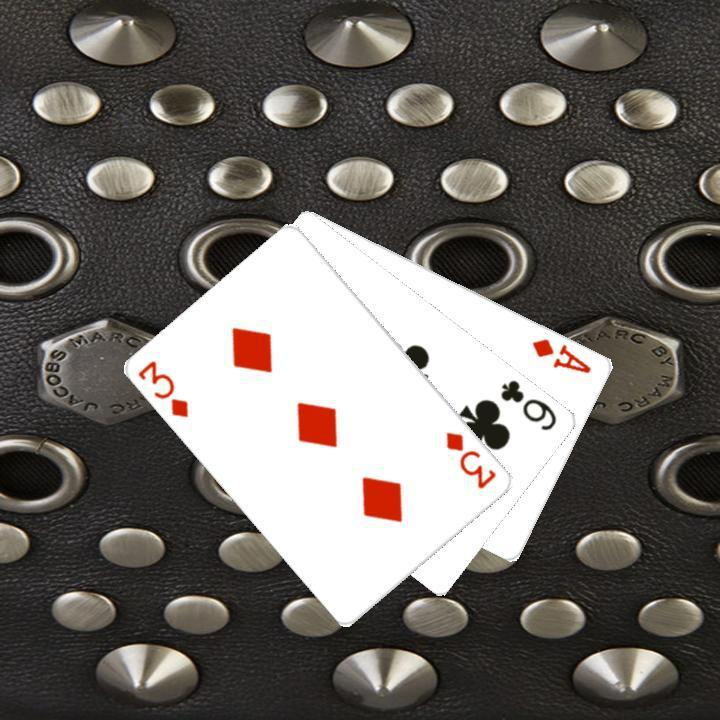3: (441, 427, 499, 492), (134, 356, 192, 420)
6: (496, 375, 560, 433)
A: (528, 333, 594, 376)
